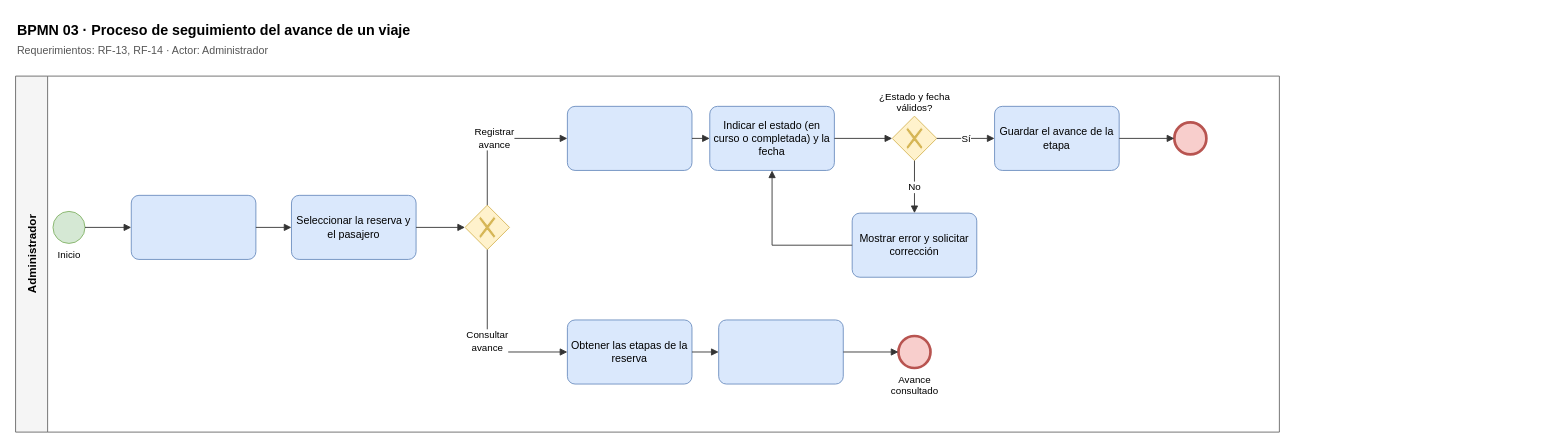
The diagram is 1544 pixels wide and 448 high, and some of its shapes have lost their labels. Here are the shapes that lost their labels. From the top down, the centre of each, then its label:
At (x=629, y=137): "Seleccionar la etapa (destino) de la reserva".
At (x=1189, y=137): "Avance registrado".
At (x=193, y=226): "Iniciar sesión como administrador".
At (x=487, y=227): "¿Qué desea hacer?".
At (x=780, y=351): "Mostrar etapas completadas, en curso y pendientes con sus fechas".
